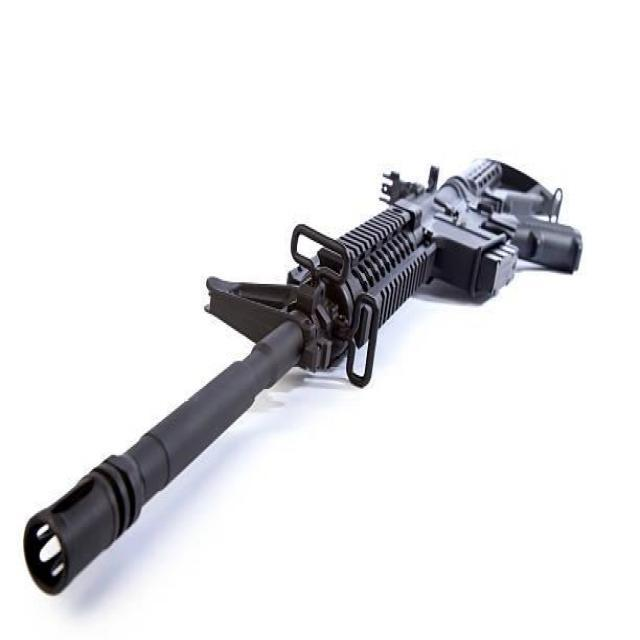weapon: (21, 154, 584, 598)
